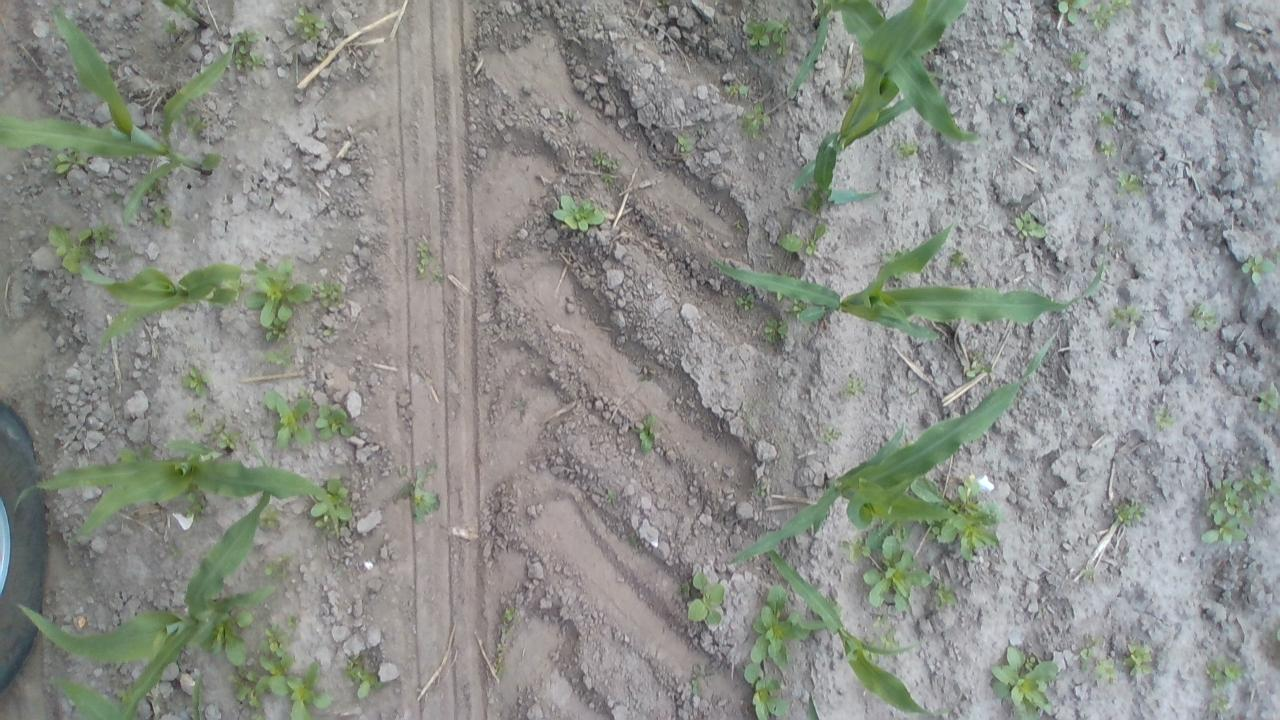Maize: (723, 329, 1056, 566), (18, 439, 274, 666), (0, 4, 236, 226), (707, 223, 1105, 340), (790, 0, 970, 211), (13, 438, 346, 540), (767, 546, 963, 718), (788, 0, 980, 144), (62, 256, 289, 360), (47, 671, 205, 720), (156, 0, 210, 29), (804, 689, 826, 720)
Weeds: (910, 470, 1001, 562), (1199, 468, 1280, 545), (862, 534, 934, 614), (741, 586, 811, 666), (989, 645, 1059, 720), (246, 256, 312, 328), (264, 387, 314, 448), (200, 612, 256, 666), (308, 476, 354, 537), (396, 460, 442, 520), (286, 662, 332, 720), (256, 624, 294, 694), (743, 662, 788, 720), (683, 572, 724, 625), (550, 194, 604, 232), (742, 18, 792, 59), (342, 654, 388, 698), (48, 226, 96, 268), (228, 25, 266, 72), (866, 512, 910, 552), (778, 224, 826, 255), (1088, 0, 1133, 33), (227, 666, 262, 708), (315, 403, 354, 440), (1206, 654, 1244, 690), (736, 102, 772, 139), (1240, 253, 1276, 287), (414, 242, 444, 282), (292, 6, 324, 42), (1122, 643, 1154, 676), (49, 148, 87, 174), (632, 413, 656, 454), (1014, 210, 1048, 238), (210, 419, 240, 450), (181, 364, 210, 396), (1058, 0, 1092, 26), (1114, 499, 1146, 526), (1190, 302, 1218, 332), (184, 484, 206, 522), (1080, 634, 1102, 672), (1108, 304, 1140, 330), (964, 352, 992, 380), (841, 536, 871, 562), (315, 280, 342, 308), (1116, 170, 1144, 197), (934, 579, 958, 610), (221, 275, 249, 301), (116, 444, 154, 463), (256, 502, 281, 530), (691, 664, 711, 698), (92, 222, 118, 248), (801, 187, 826, 214), (264, 556, 292, 580), (764, 316, 788, 344), (1255, 386, 1278, 414), (740, 400, 759, 433), (265, 316, 289, 342), (1094, 656, 1116, 684), (859, 634, 880, 662), (266, 345, 292, 366), (841, 78, 865, 100), (153, 202, 173, 228), (493, 642, 507, 678), (1208, 692, 1232, 713), (591, 150, 617, 169), (880, 246, 910, 262), (1155, 407, 1174, 432), (186, 114, 208, 134), (1068, 50, 1089, 70), (843, 376, 864, 396), (1097, 108, 1117, 128), (1098, 138, 1118, 158), (880, 628, 900, 648), (896, 139, 917, 158), (790, 296, 808, 318), (186, 409, 203, 432), (722, 82, 748, 96), (948, 249, 968, 267), (735, 293, 755, 311), (821, 425, 842, 442), (677, 133, 694, 152), (1202, 73, 1218, 93), (1079, 564, 1097, 581), (1000, 38, 1016, 57), (1070, 84, 1088, 100), (144, 178, 160, 196), (162, 17, 179, 33), (871, 614, 890, 628), (1206, 39, 1220, 57), (106, 191, 122, 205), (503, 604, 515, 622), (602, 172, 616, 185), (994, 92, 1008, 104), (286, 615, 298, 628), (250, 712, 268, 720), (604, 490, 614, 504), (322, 326, 334, 337), (775, 290, 786, 302), (893, 272, 907, 280), (755, 487, 767, 496), (170, 548, 182, 556), (733, 220, 743, 229), (629, 536, 638, 546), (1275, 625, 1280, 643), (652, 0, 662, 8), (1277, 250, 1280, 261)
